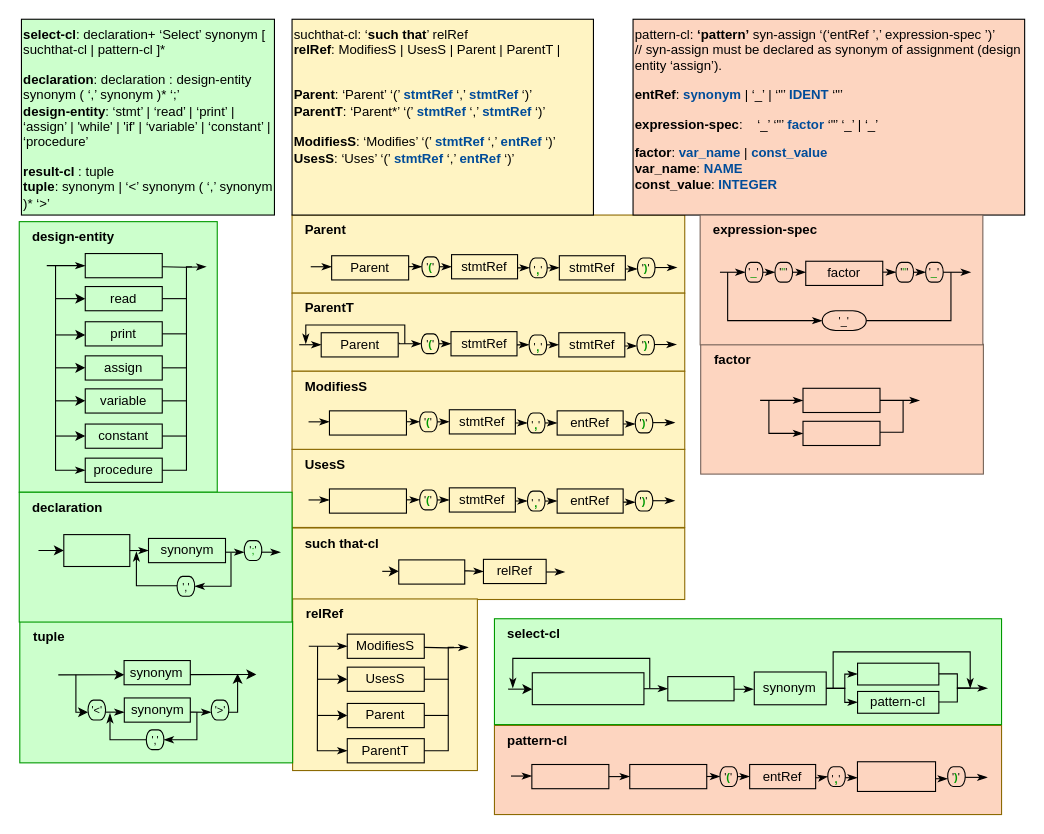
Image size: 1044x834. Some labels were removed from this diagram. Each missing label, with the centre of its shape:
'Select': the point at 700,688
assign-syn: the point at 668,776
const_value: the point at 841,433
declaration (design entity): the point at 587,688
design entity: the point at 96,550
expression spec: the point at 896,776
Modifies: the point at 367,422
pattern: the point at 570,776
stmt: the point at 123,265
such that: the point at 431,571
suchthat-cl: the point at 897,673
Uses: the point at 367,500
var_name: the point at 841,400
